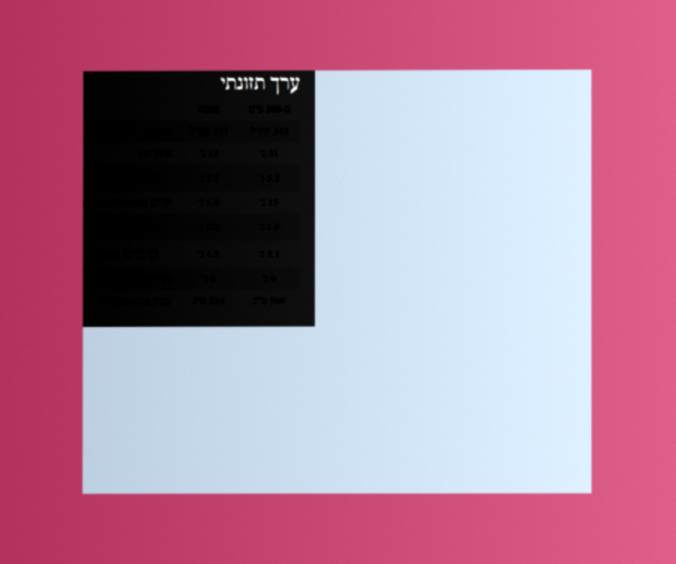carbs: (259, 196, 280, 209)
energy: (248, 125, 290, 138)
fat: (259, 147, 280, 160)
protein: (261, 272, 277, 285)
